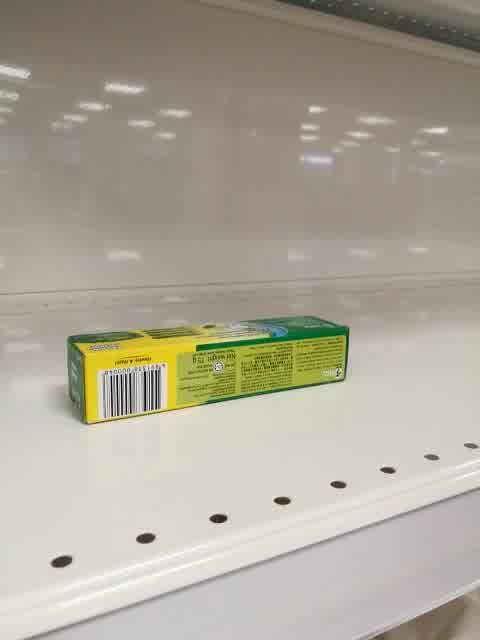toothpaste: (66, 315, 352, 426)
